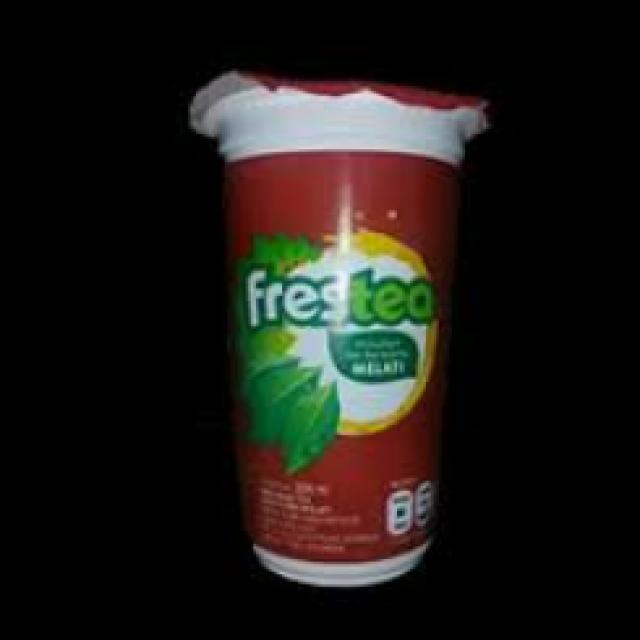GelasPlastik: (186, 66, 494, 589)
